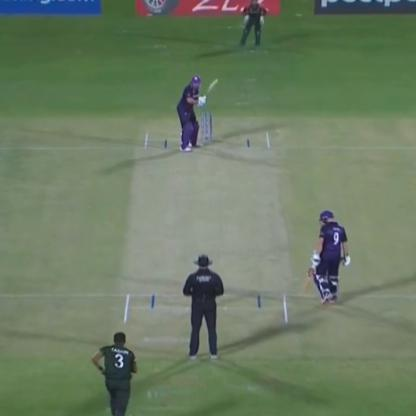bat: (197, 70, 229, 104), (298, 264, 317, 302)
pitch: (119, 122, 299, 336)
